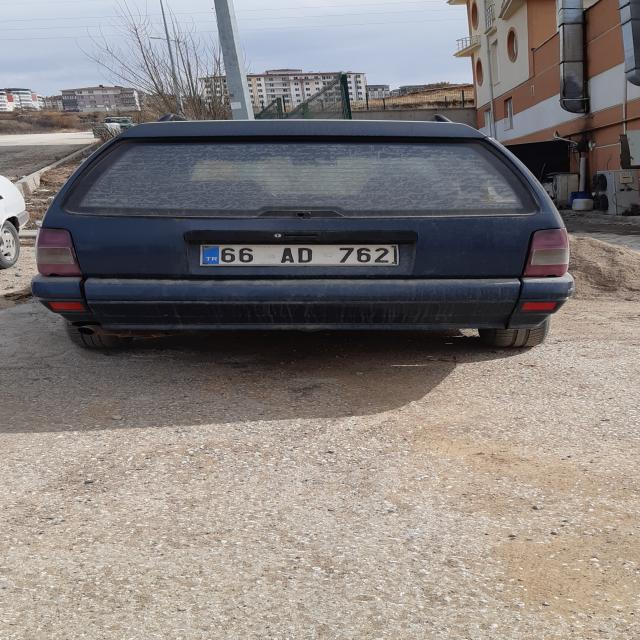plate: (202, 244, 396, 266)
